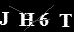6: (38, 12, 50, 26)
H: (17, 12, 35, 27)
J: (1, 11, 9, 25)
T: (58, 13, 72, 27)
